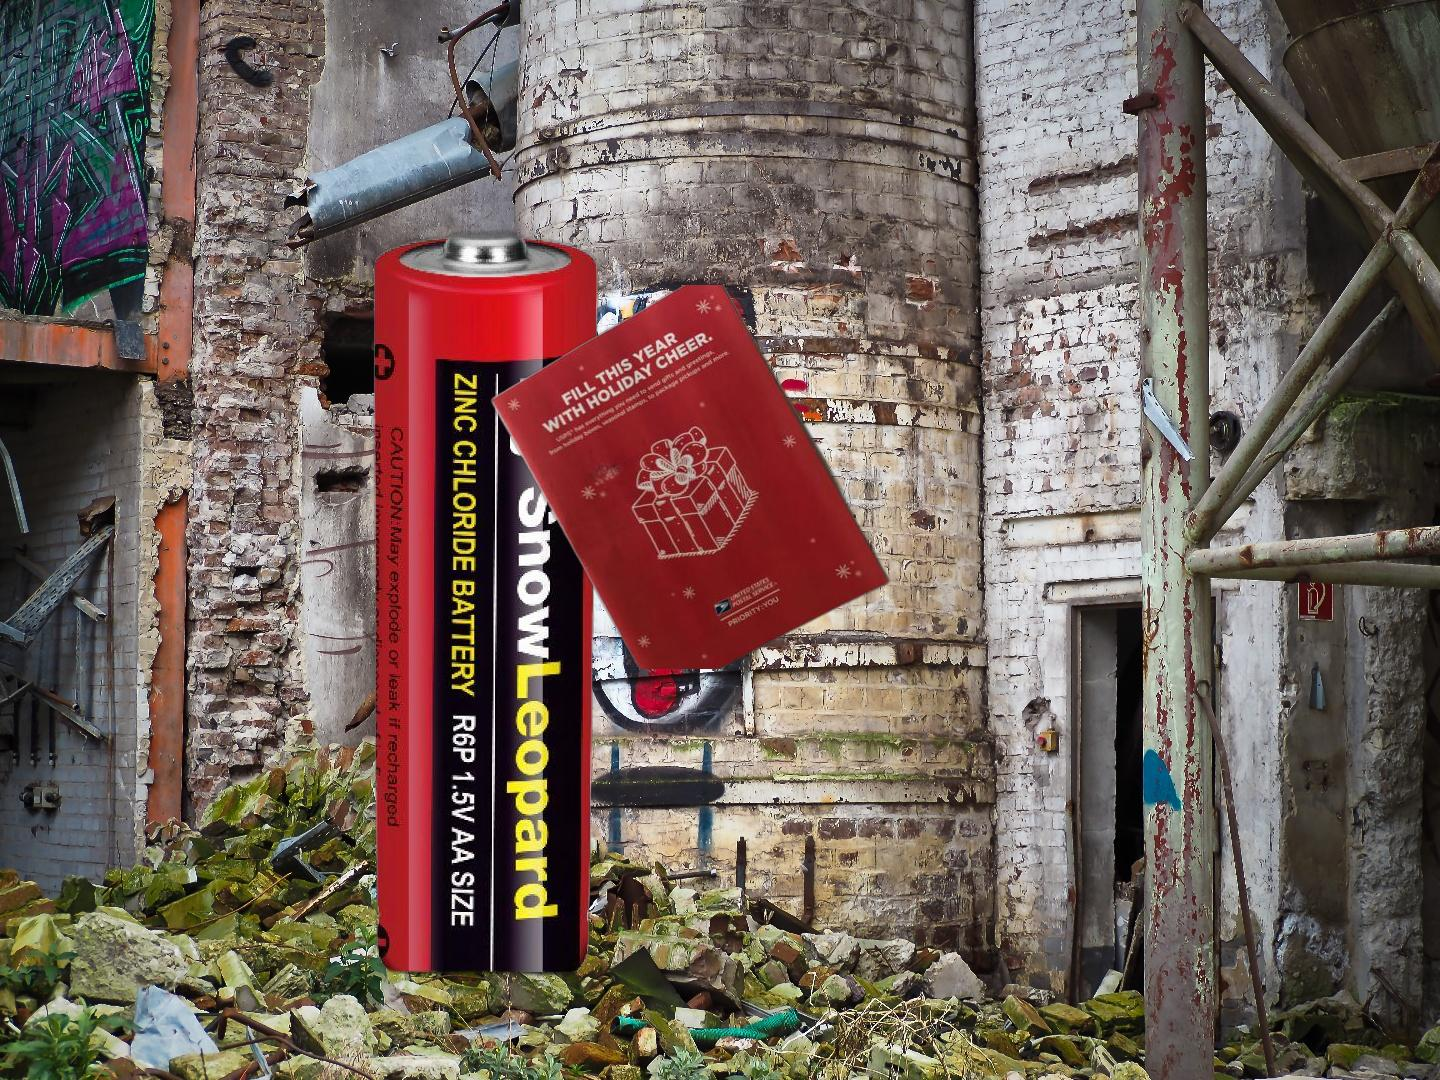battery: (371, 223, 602, 982)
paper: (486, 285, 897, 669)
trashbox-cardboard: (1400, 805, 1440, 1080)
